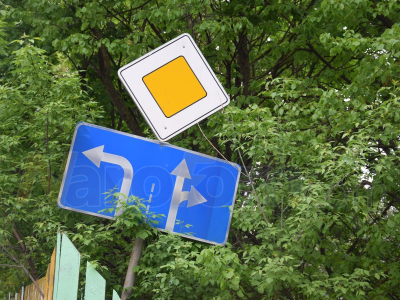priority_road: (132, 43, 223, 132)
